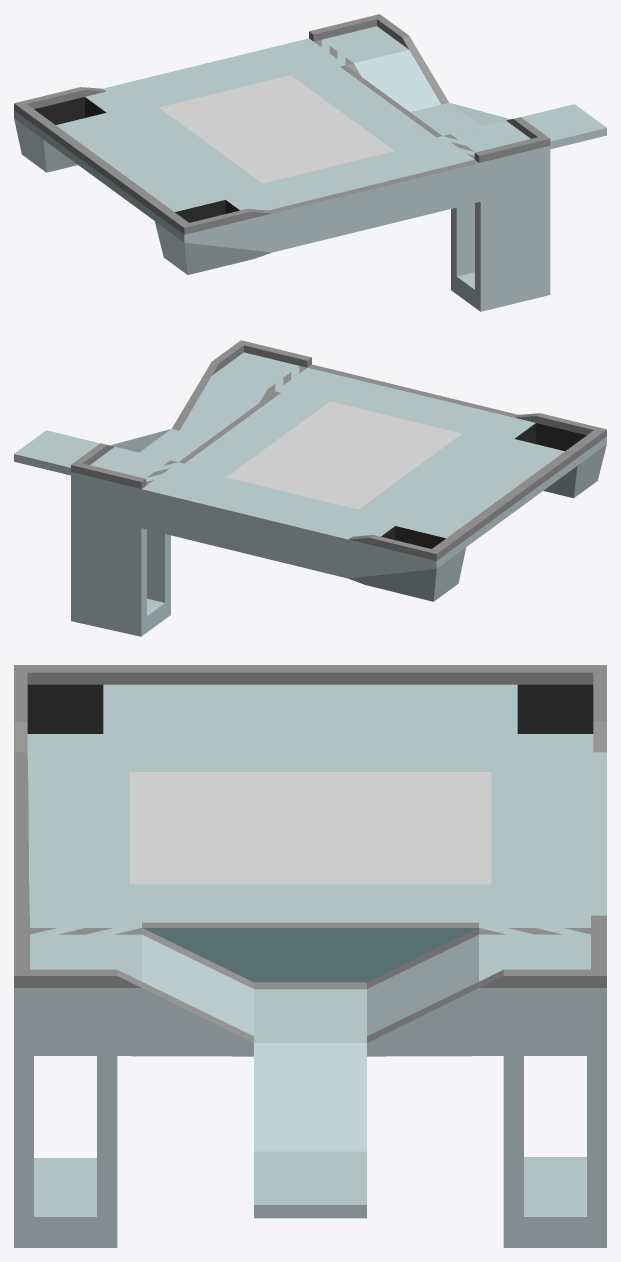
Rendered from GarageAreaGround.fbx.
3 renders of one model, top to bottom at view 1: azimuth 30°, elevation 25°; view 2: azimuth 150°, elevation 25°; view 3: azimuth 270°, elevation 25°, orthographic. The views are drawn at different scales.
Visible parts, largest first — view 1: garage_ground; view 2: garage_ground; view 3: garage_ground.
Part boxes in pixels (bbox=[...]): garage_ground: bbox=[14, 14, 606, 311]; garage_ground: bbox=[14, 340, 606, 636]; garage_ground: bbox=[14, 665, 606, 1247].
Size of the model in its own units: 333 by 200 by 101.
